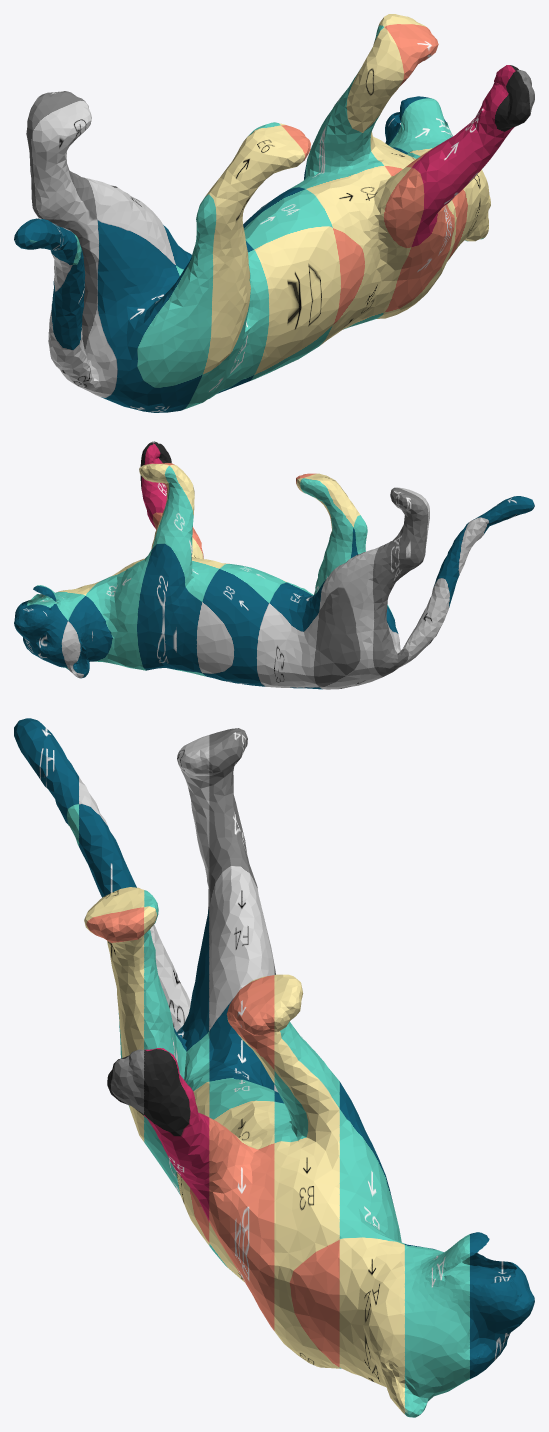
Rendered from cougar_04.obj.
3 renders of one model, top to bottom at view 1: azimuth 30°, elevation 25°; view 2: azimuth 150°, elevation 25°; view 3: azimuth 270°, elevation 25°, orthographic. The views are drawn at different scales.
Parts seen in each view (by area): view 1: cougar_04_export; view 2: cougar_04_export; view 3: cougar_04_export.
Boxes of the visible parts, x1,y1,x2,y2 form: cougar_04_export: [14, 14, 534, 412]; cougar_04_export: [14, 441, 534, 689]; cougar_04_export: [14, 718, 534, 1417].
Bounding box in the file's own units: 1.06 × 0.5502 × 0.6287.
